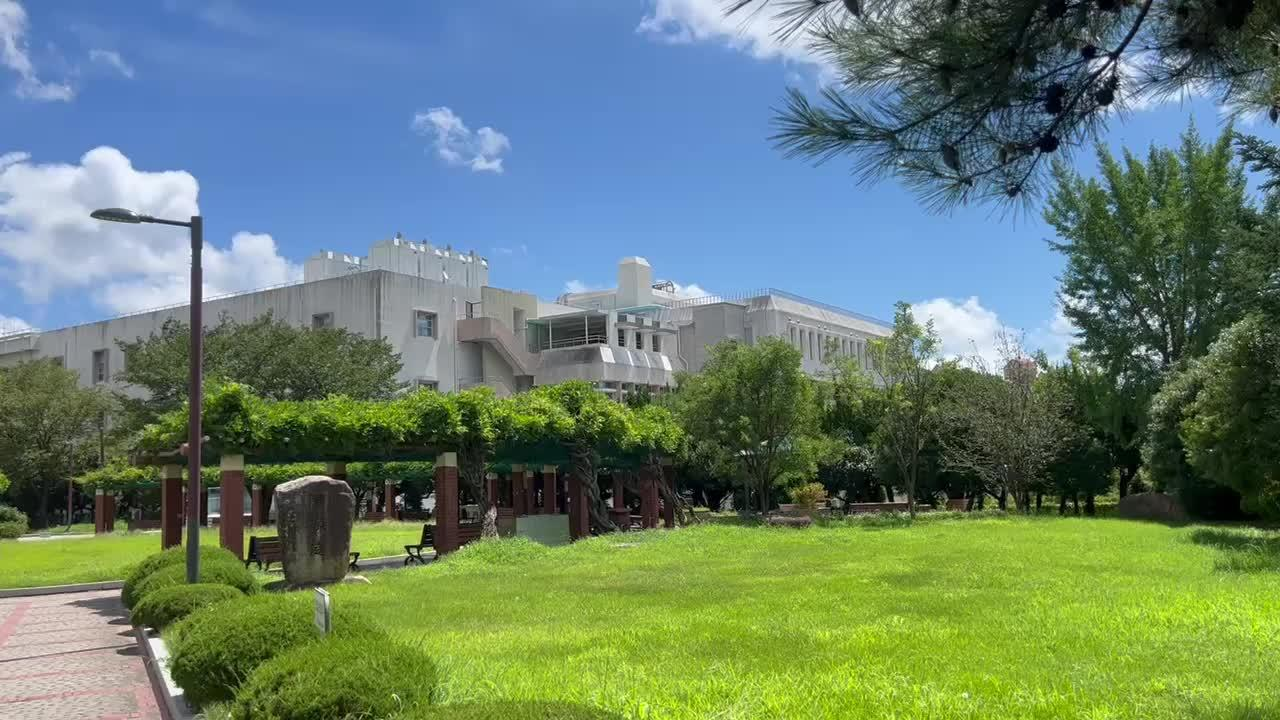building: (339, 232, 721, 394)
